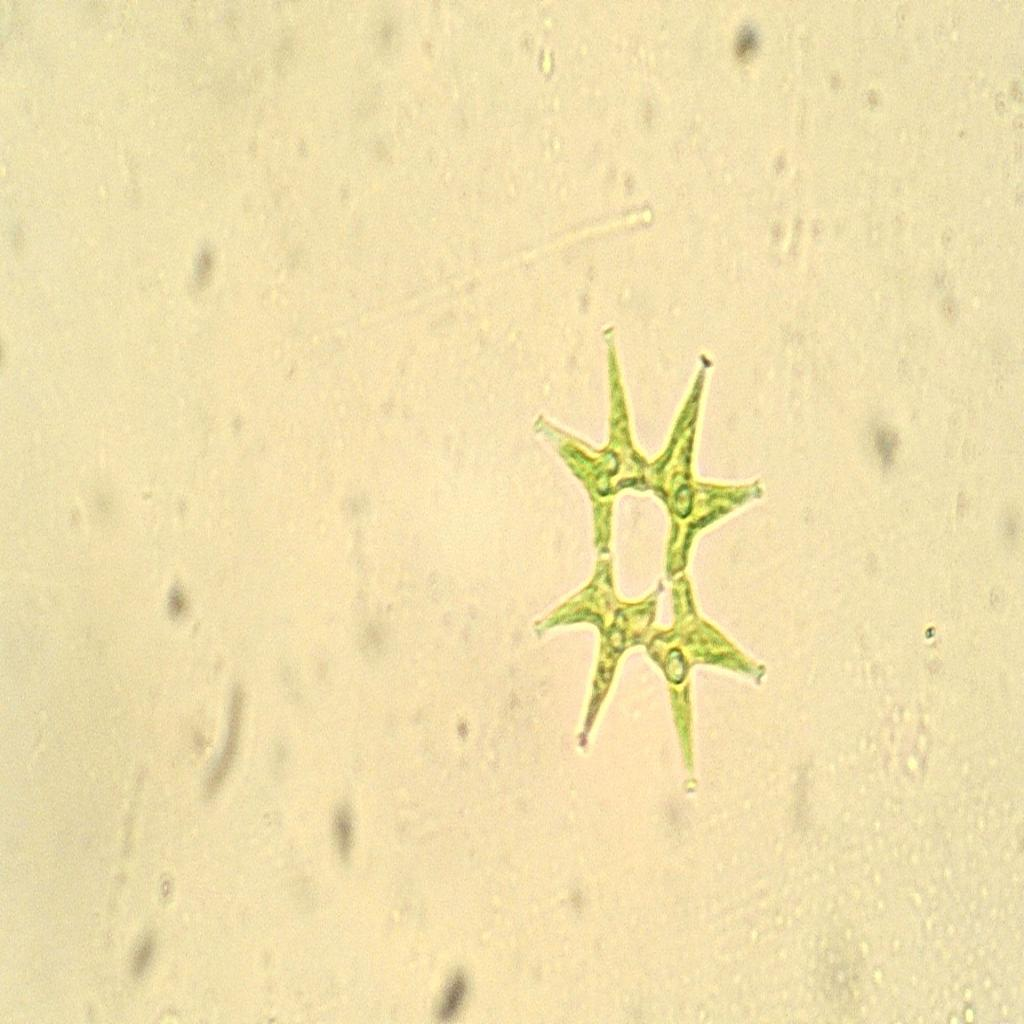Pediastrum_CF: (507, 309, 793, 813)
